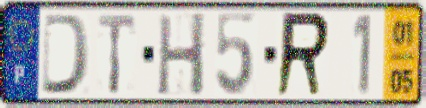1: (351, 12, 373, 99)
5: (213, 10, 260, 100)
D: (38, 12, 93, 97)
H: (155, 10, 208, 99)
R: (273, 10, 333, 101)
T: (96, 12, 138, 97)
